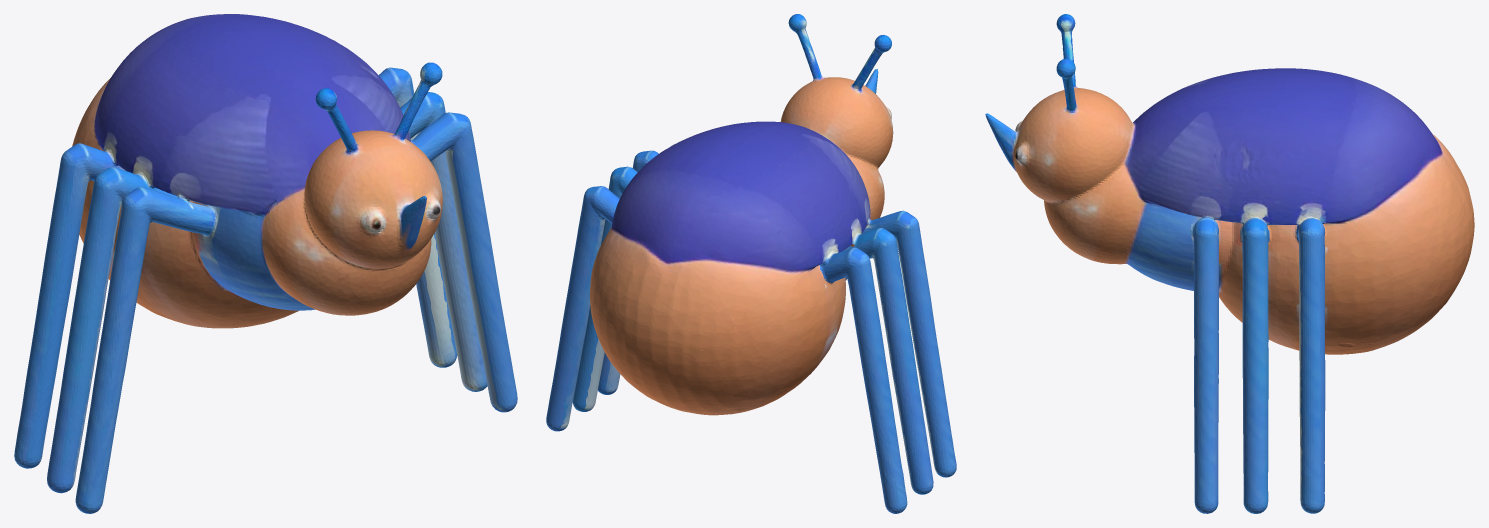
Rendered from creature-026.glb.
3 views of the same model, side by side, from view 1: azimuth 30°, elevation 25°; view 2: azimuth 150°, elevation 25°; view 3: azimuth 270°, elevation 25° (orthographic). The views are drawn at different scales.
Parts seen in each view (by area): view 1: tmpjy04m6k5.ply; view 2: tmpjy04m6k5.ply; view 3: tmpjy04m6k5.ply.
Part boxes in pixels (left/top/right/bottom): tmpjy04m6k5.ply: left=14, top=14, right=517, bottom=513; tmpjy04m6k5.ply: left=546, top=14, right=956, bottom=513; tmpjy04m6k5.ply: left=985, top=14, right=1474, bottom=513.
Bounding box in the file's own units: 1.42 × 1.37 × 1.56.
Materials: 1 (1 with a texture image).
